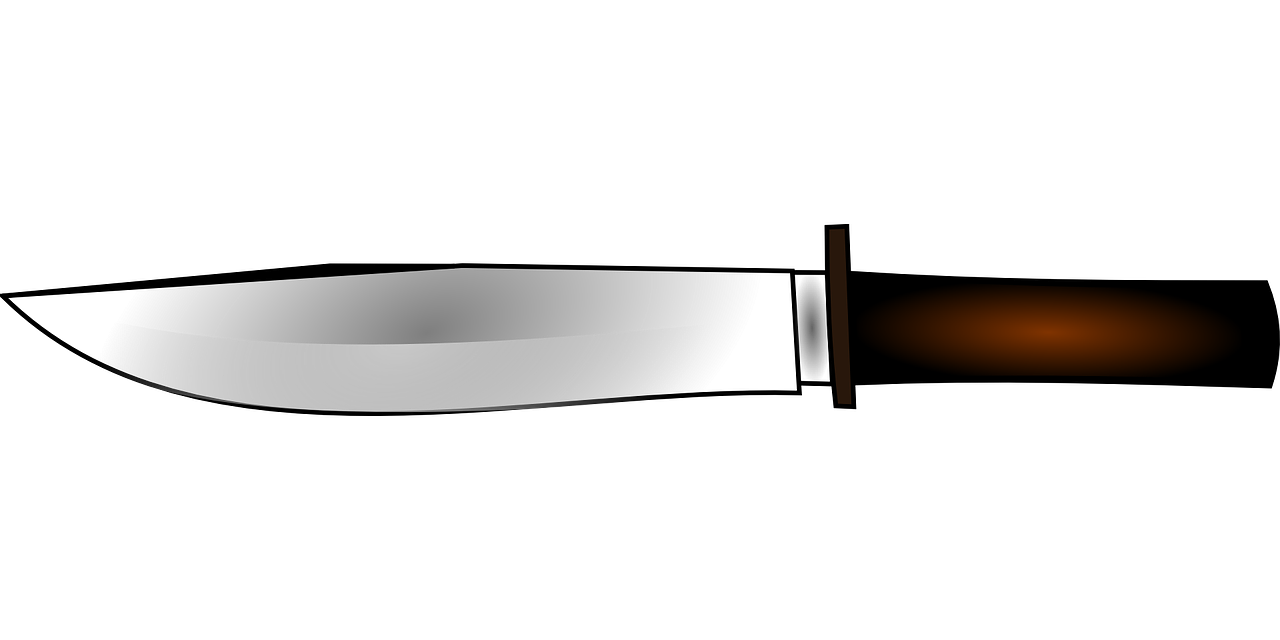knife: (0, 218, 1280, 424)
